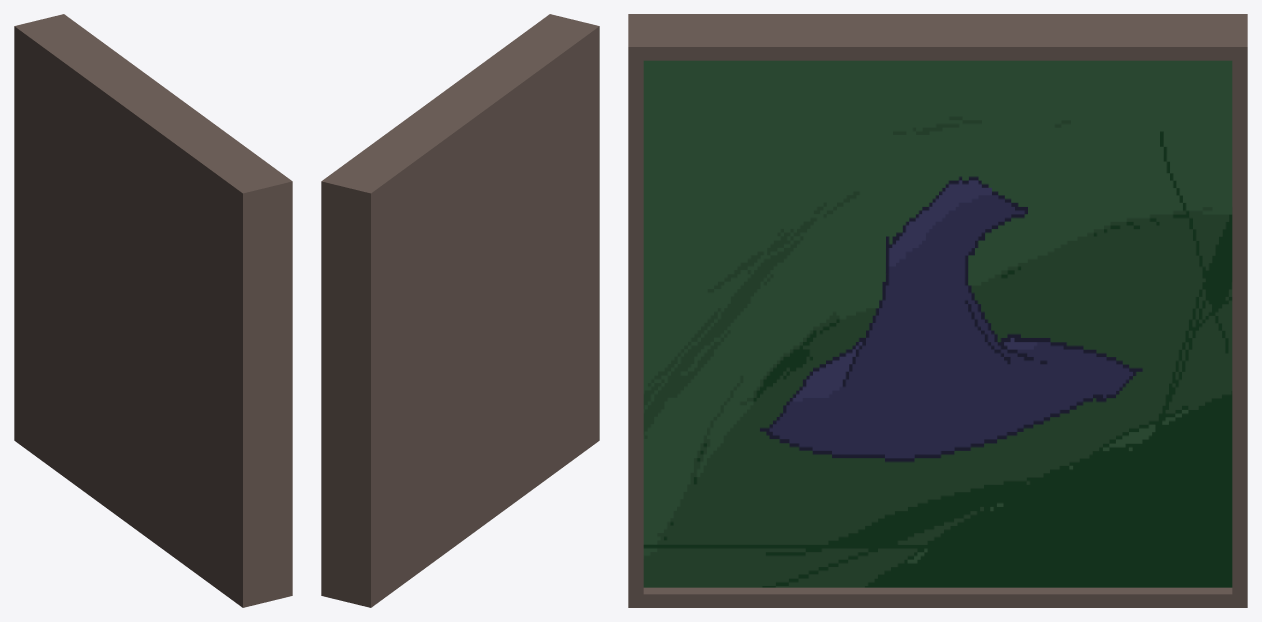
File: WizardPainting.fbx
3 renders of one model, left to right at view 1: azimuth 30°, elevation 25°; view 2: azimuth 150°, elevation 25°; view 3: azimuth 270°, elevation 25°, orthographic. The views are drawn at different scales.
Visible parts, largest first — view 1: Cube.097; view 2: Cube.097; view 3: Cube.097.
Boxes of the visible parts, left/top/right/bottom form: Cube.097: left=14, top=14, right=292, bottom=607; Cube.097: left=321, top=14, right=599, bottom=607; Cube.097: left=628, top=14, right=1247, bottom=607.
Size of the model in its own units: 25.11 by 200 by 200.
